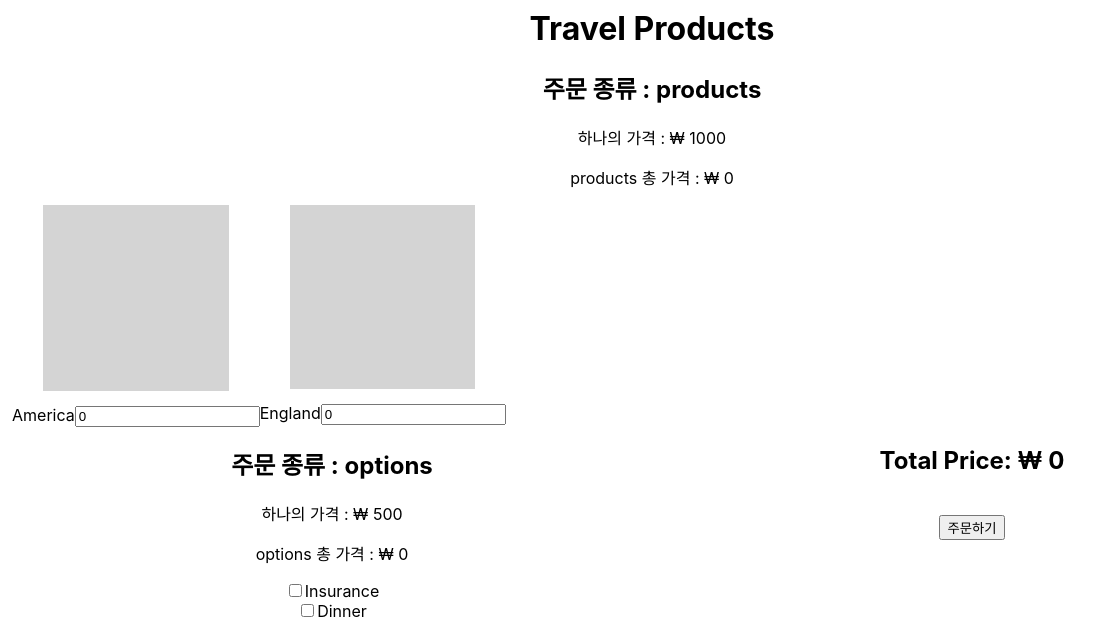
total price of products and options › update total price when removing products and options
This screenshot has width=1105, height=634.
Replace the text in the number field labelled "America" with "3" at (167, 416), box left=75, top=406, right=260, bottom=427
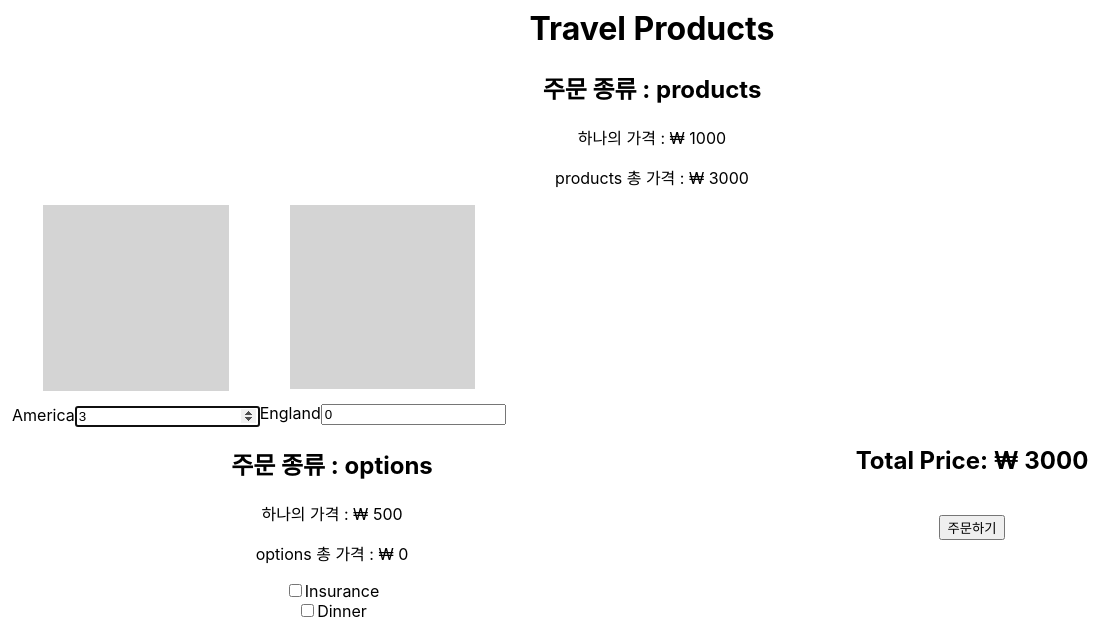
Click the checkbox labelled "Insurance" at (295, 591), box left=289, top=584, right=302, bottom=597
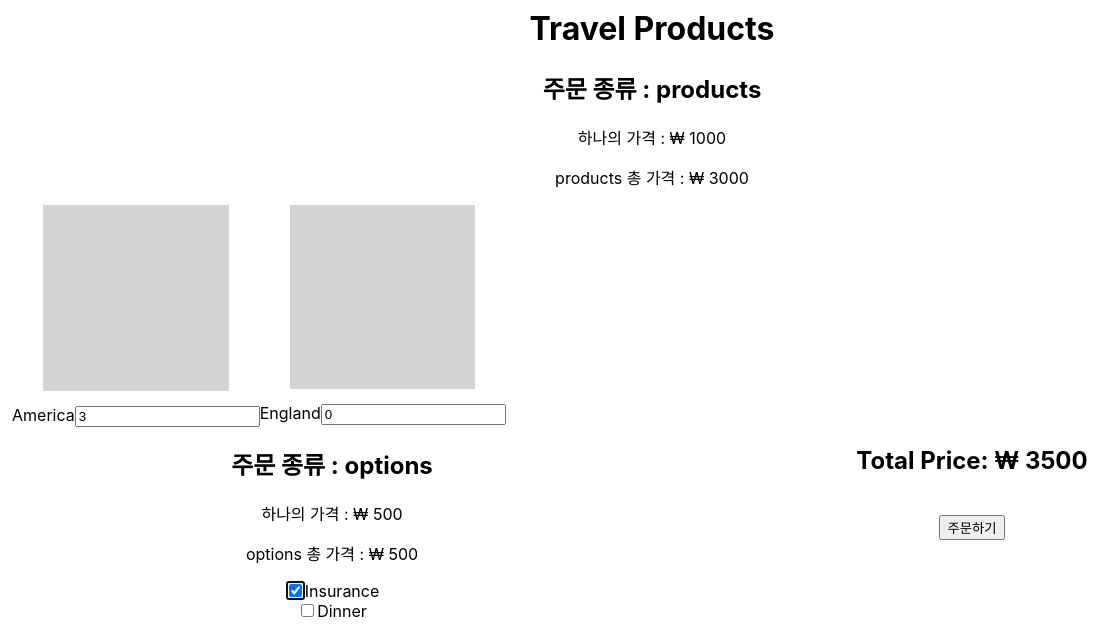
Now the heading "Total Price: ₩ 3500" is shown, box left=856, top=446, right=1088, bottom=476
Replace the text in the number field labelled "America" with "1" at (167, 416), box left=75, top=406, right=260, bottom=427
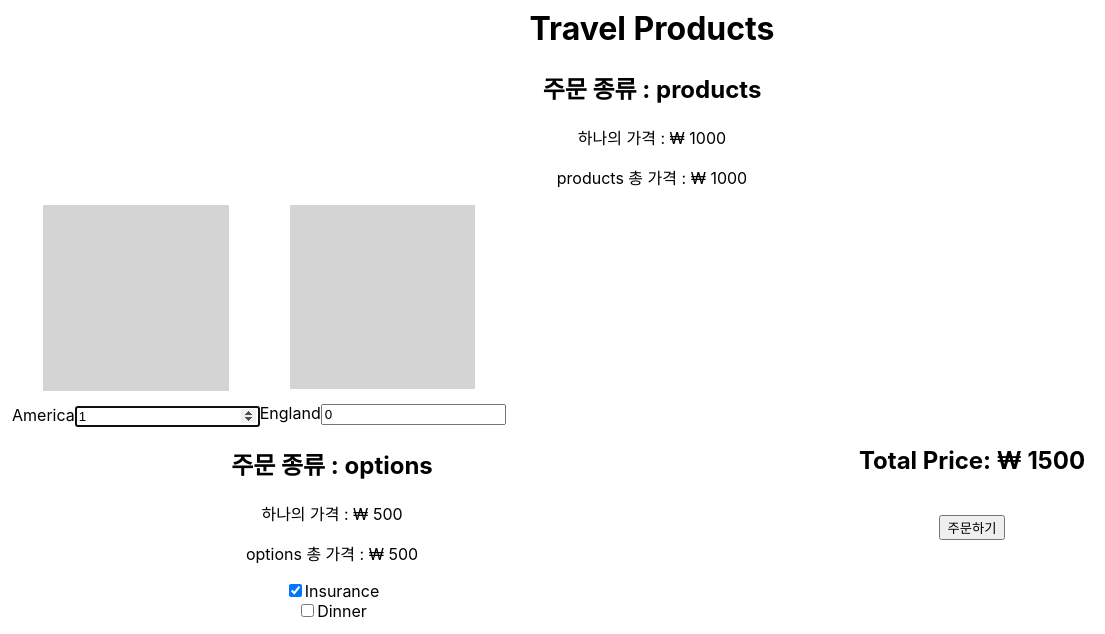
Click the checkbox labelled "Insurance" at (295, 591), box left=289, top=584, right=302, bottom=597
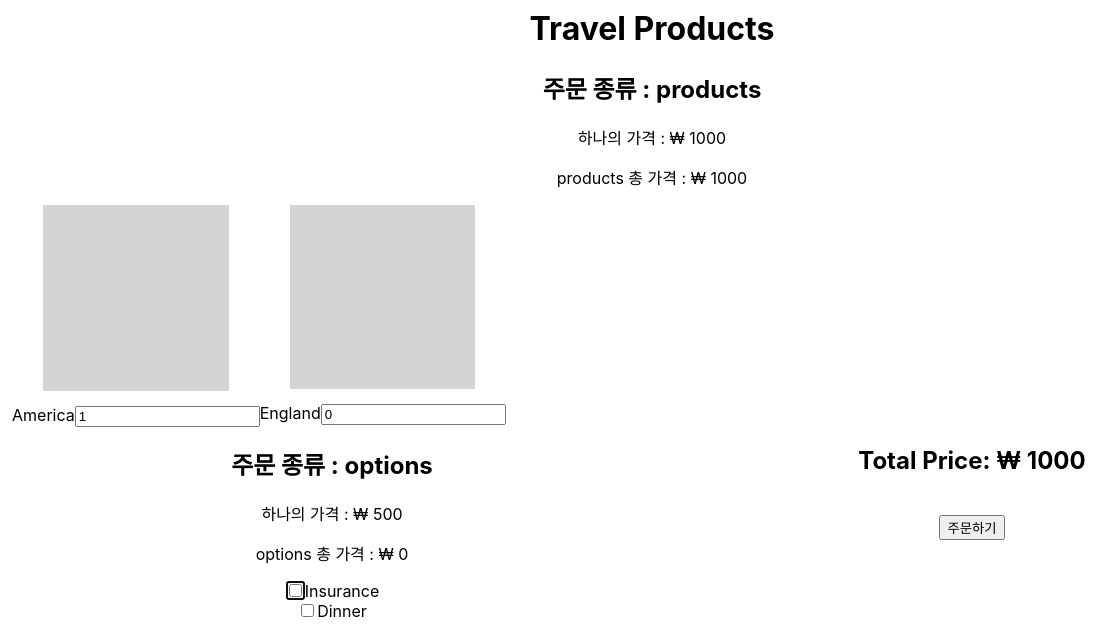
Now the heading "Total Price: ₩ 1000" is shown, box left=858, top=446, right=1086, bottom=476
